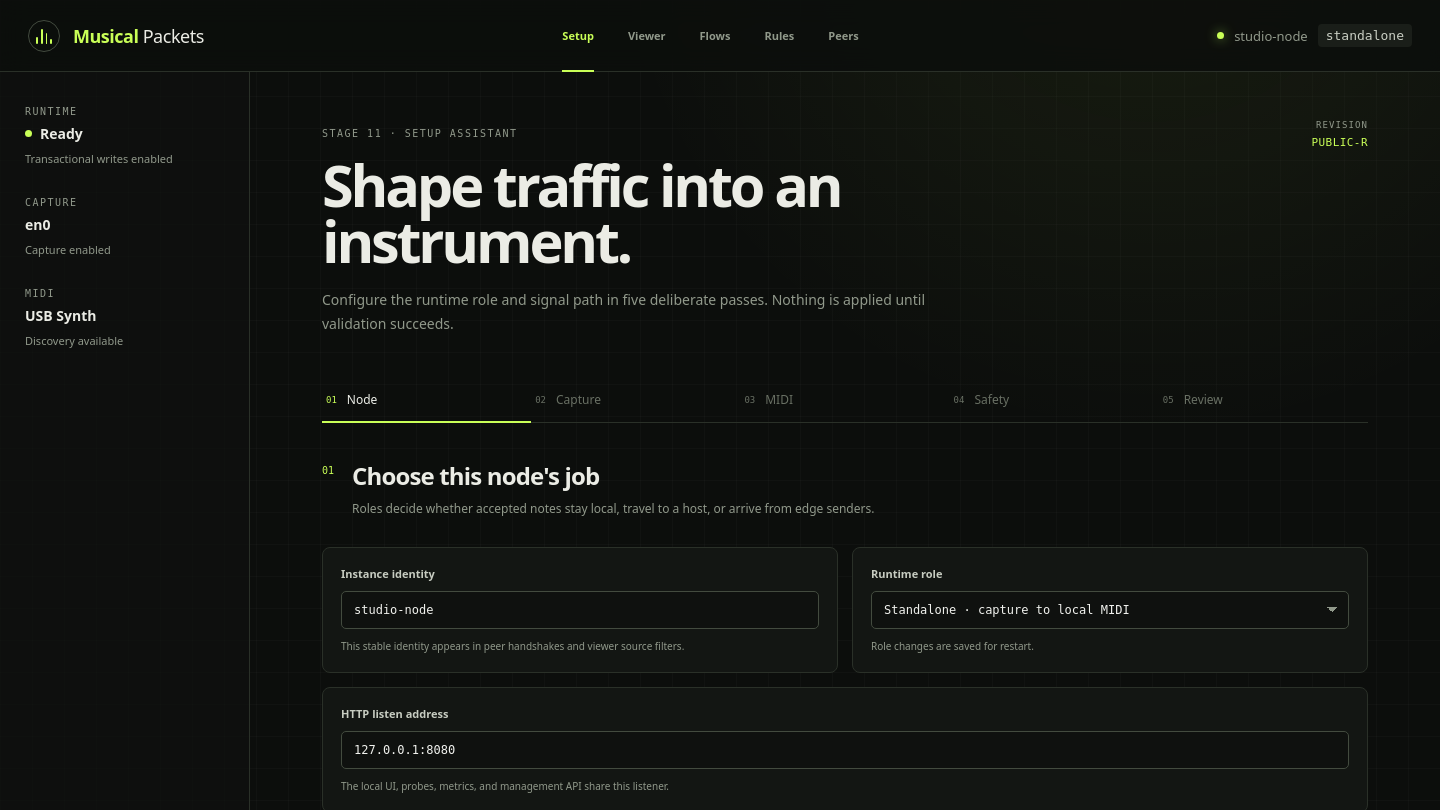
Test: setup assistant › navigates to the ordered rules workspace
Click the link "Rules".
click(779, 36)  # box [764,28,794,43]
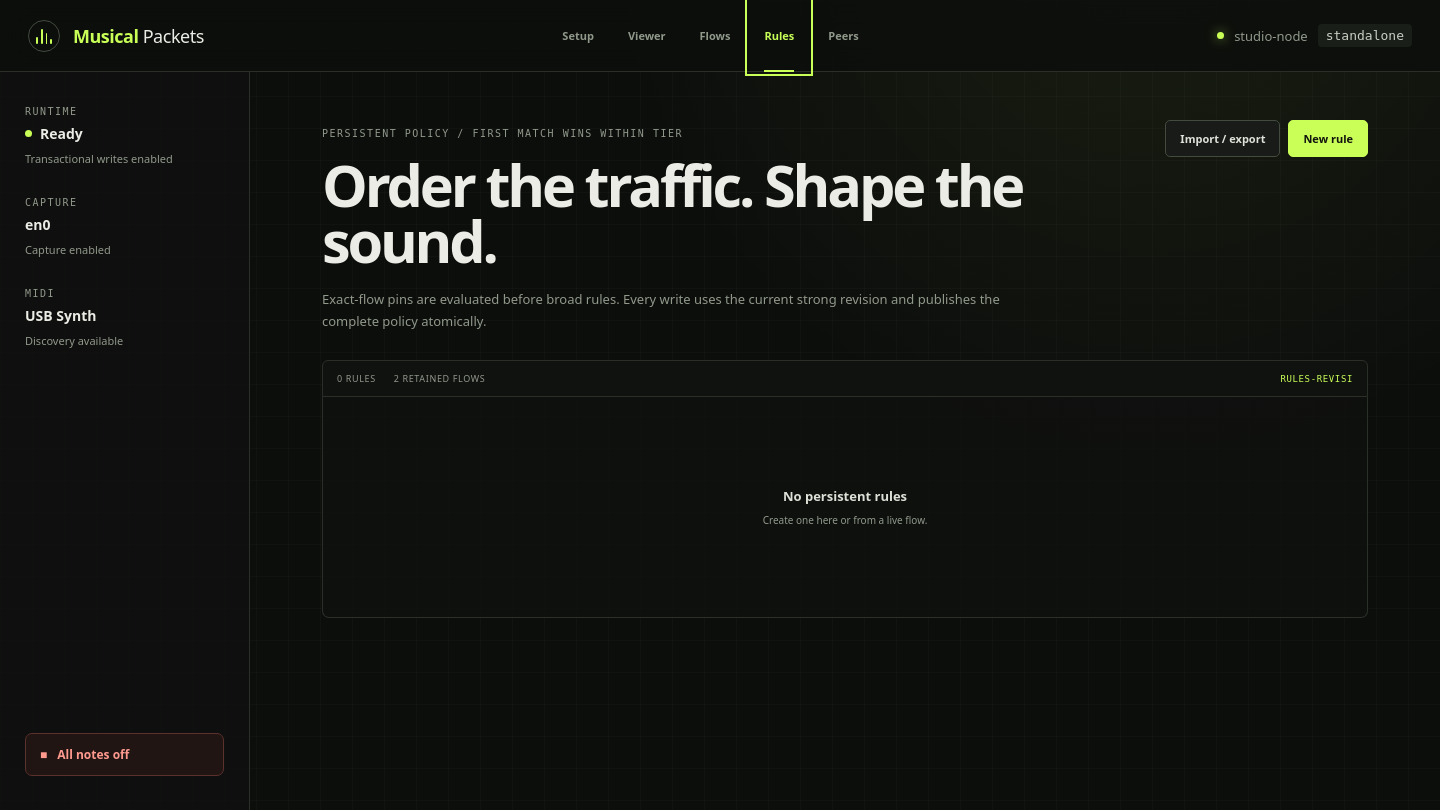
Expected: the heading "Order the traffic. Shape the sound." is shown, [322,157,1042,270]
